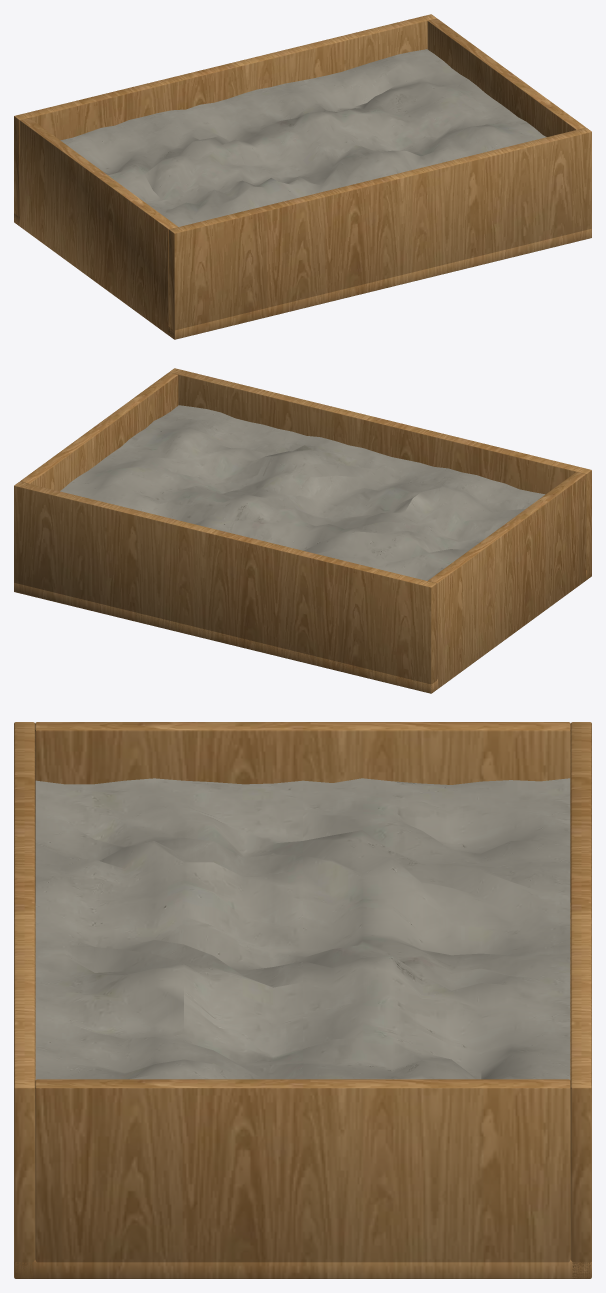
The model's file is REV-ARG-004.glb.
3 views of the same model, one above another, from view 1: azimuth 30°, elevation 25°; view 2: azimuth 150°, elevation 25°; view 3: azimuth 270°, elevation 25° (orthographic). The views are drawn at different scales.
Parts seen in each view (by area): view 1: REV-ARG-004_lado-1, REV-ARG-004_argamassa, REV-ARG-004_cab-1, REV-ARG-004_lado1, REV-ARG-004_cab1, REV-ARG-004_fundo; view 2: REV-ARG-004_lado1, REV-ARG-004_argamassa, REV-ARG-004_cab-1, REV-ARG-004_lado-1, REV-ARG-004_cab1, REV-ARG-004_fundo; view 3: REV-ARG-004_argamassa, REV-ARG-004_cab1, REV-ARG-004_cab-1, REV-ARG-004_lado-1, REV-ARG-004_lado1, REV-ARG-004_fundo.
Part boxes in pixels (x1,y1,x2,y2): REV-ARG-004_lado-1: (169, 127, 591, 339); REV-ARG-004_argamassa: (60, 49, 546, 226); REV-ARG-004_cab-1: (20, 118, 177, 334); REV-ARG-004_lado1: (14, 14, 436, 225); REV-ARG-004_cab1: (427, 18, 585, 136); REV-ARG-004_fundo: (14, 213, 591, 339); REV-ARG-004_lado1: (14, 481, 436, 690); REV-ARG-004_argamassa: (60, 405, 545, 580); REV-ARG-004_cab-1: (428, 472, 585, 688); REV-ARG-004_lado-1: (169, 368, 591, 579); REV-ARG-004_cab1: (20, 372, 178, 491); REV-ARG-004_fundo: (14, 570, 586, 693); REV-ARG-004_argamassa: (35, 778, 570, 1079); REV-ARG-004_cab1: (35, 1079, 570, 1278); REV-ARG-004_cab-1: (35, 722, 570, 902); REV-ARG-004_lado-1: (14, 722, 35, 1278); REV-ARG-004_lado1: (570, 722, 591, 1278); REV-ARG-004_fundo: (14, 903, 591, 1278).
Bounding box in the file's own units: 0.9 × 0.22 × 0.6.
2 materials, 2 textured.
